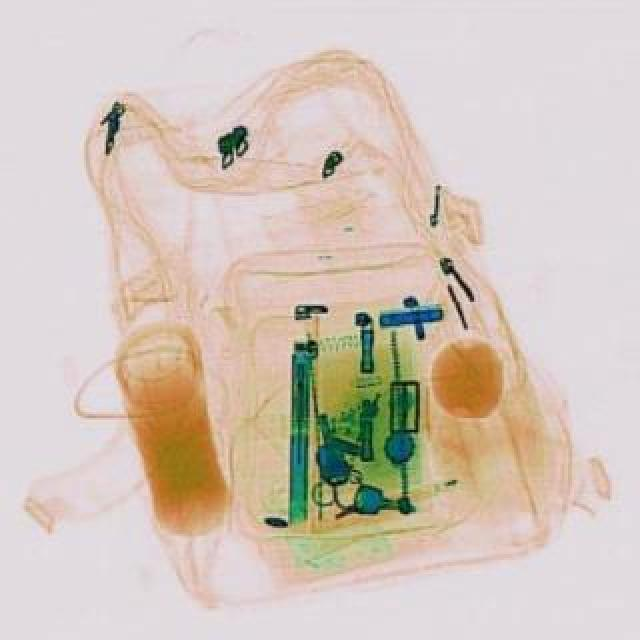pliers: (296, 406, 364, 514)
